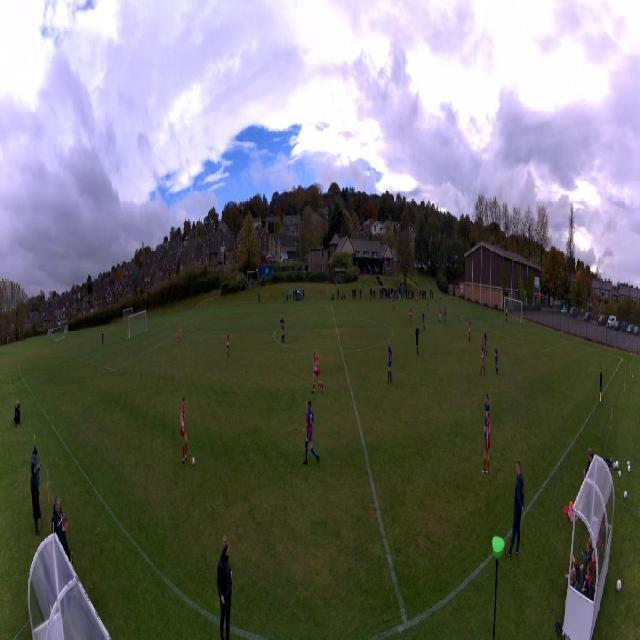ball: (191, 457, 195, 466)
player: (303, 398, 320, 468), (180, 395, 188, 465), (482, 414, 491, 475), (311, 347, 323, 392), (485, 395, 491, 443), (386, 341, 392, 382), (480, 340, 485, 378), (280, 317, 285, 344), (226, 329, 230, 360), (494, 345, 498, 375), (416, 325, 420, 355), (421, 308, 425, 332), (483, 330, 487, 354), (409, 306, 413, 326), (178, 326, 182, 346), (468, 317, 471, 342), (439, 307, 442, 326), (444, 306, 447, 325), (426, 296, 429, 312), (392, 298, 395, 313), (416, 291, 418, 307), (505, 307, 507, 323)
